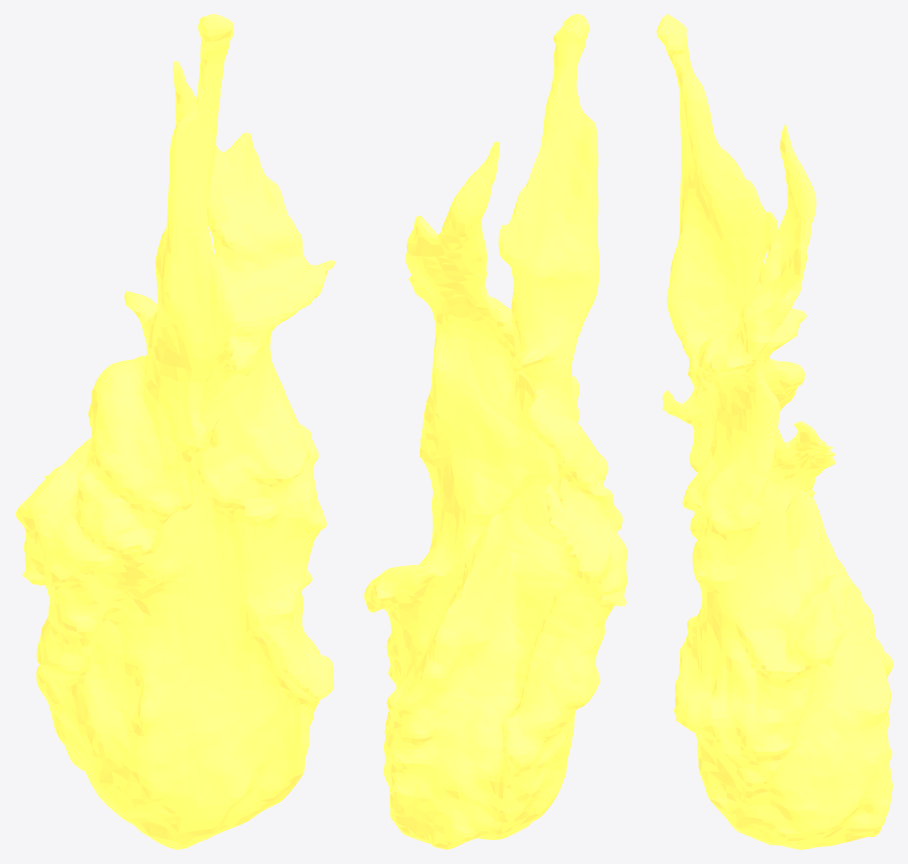
The model's file is flame.glb.
3 renders of one model, left to right at view 1: azimuth 30°, elevation 25°; view 2: azimuth 150°, elevation 25°; view 3: azimuth 270°, elevation 25°, orthographic. The views are drawn at different scales.
Parts seen in each view (by area): view 1: Fire; view 2: Fire; view 3: Fire.
Boxes of the visible parts, <box> form: Fire: <box>15,14,335,849</box>; Fire: <box>364,14,627,849</box>; Fire: <box>656,14,893,849</box>.
Size of the model in its own units: 1.98 by 5.98 by 1.6.
